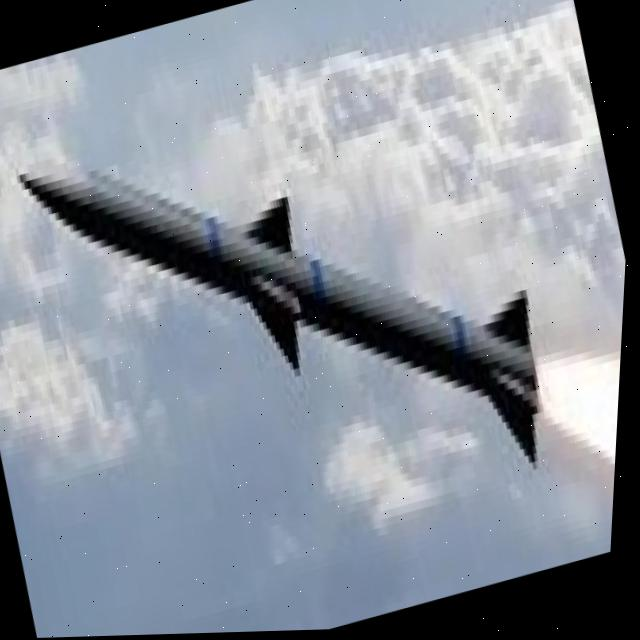missile: (0, 17, 639, 591)
